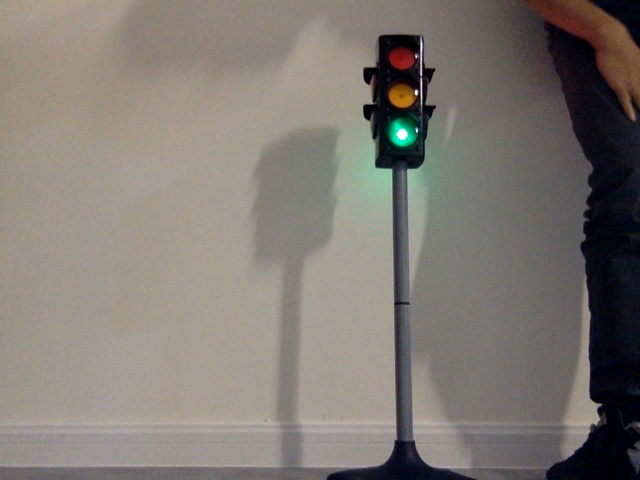green: (382, 41, 418, 151)
